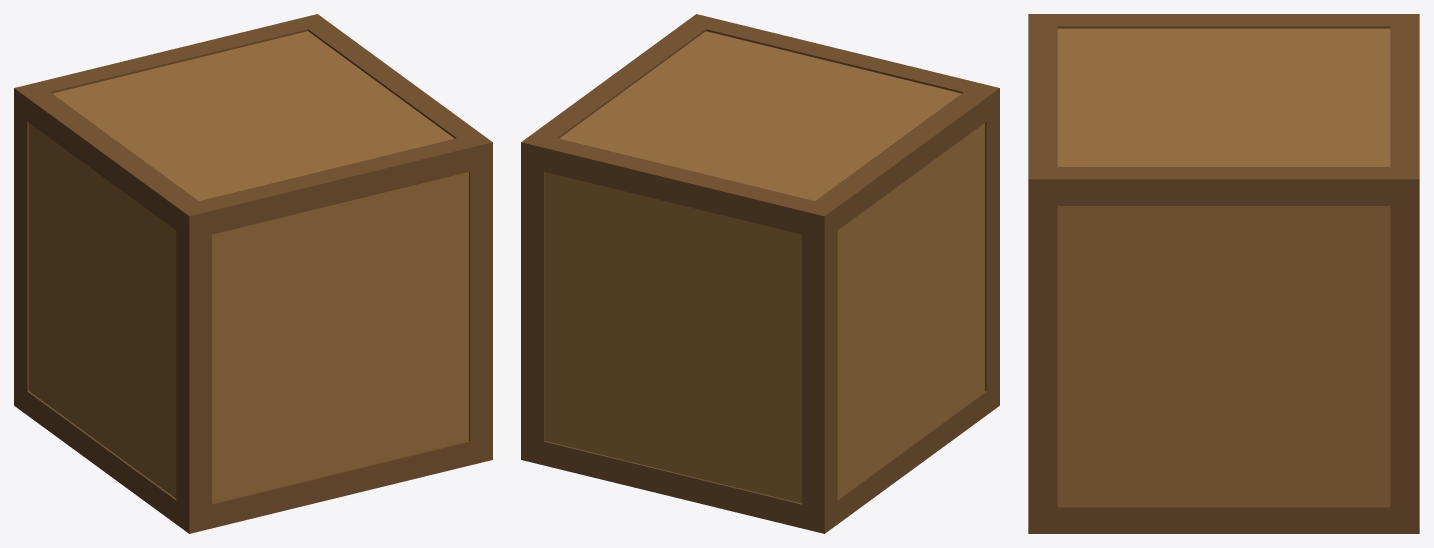
Rendered from crate.glb.
3 renders of one model, left to right at view 1: azimuth 30°, elevation 25°; view 2: azimuth 150°, elevation 25°; view 3: azimuth 270°, elevation 25°, orthographic. The views are drawn at different scales.
Visible parts, largest first — view 1: crate; view 2: crate; view 3: crate.
Boxes of the visible parts, x1,y1,x2,y2 form: crate: [14, 14, 492, 533]; crate: [521, 14, 999, 533]; crate: [1028, 14, 1419, 533].
Size of the model in its own units: 0.8 by 0.8 by 0.8.
